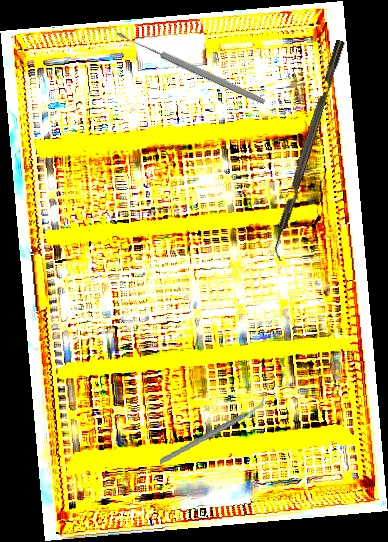Chopper: (266, 39, 356, 263), (154, 396, 271, 465)
Surgical Spoon: (115, 29, 267, 106)
